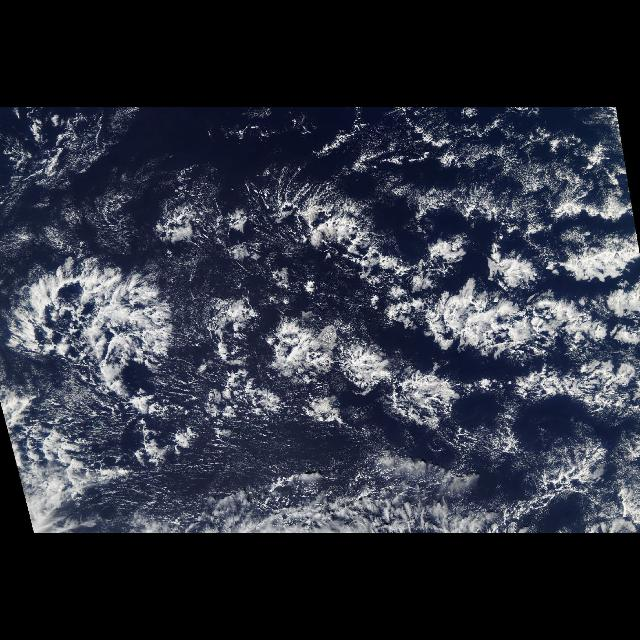Fish: (215, 153, 638, 517), (10, 241, 202, 493)
Gravel: (93, 116, 632, 244)
Sugar: (2, 110, 230, 272)
